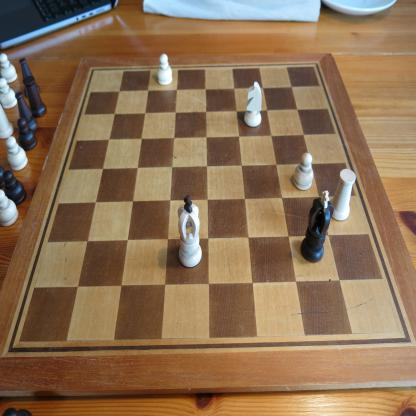black-bishop: (13, 91, 41, 136), (18, 56, 40, 96)
black-king: (298, 189, 335, 262)
black-pawn: (1, 168, 27, 208), (16, 117, 38, 152)
black-rook: (21, 73, 47, 118)
white-king: (173, 193, 206, 267)
white-knight: (242, 81, 264, 130)
white-pawn: (291, 150, 314, 192), (4, 135, 29, 170), (0, 188, 19, 228), (154, 52, 173, 87), (0, 77, 17, 110), (0, 54, 18, 83)
white-rook: (327, 166, 357, 222)
